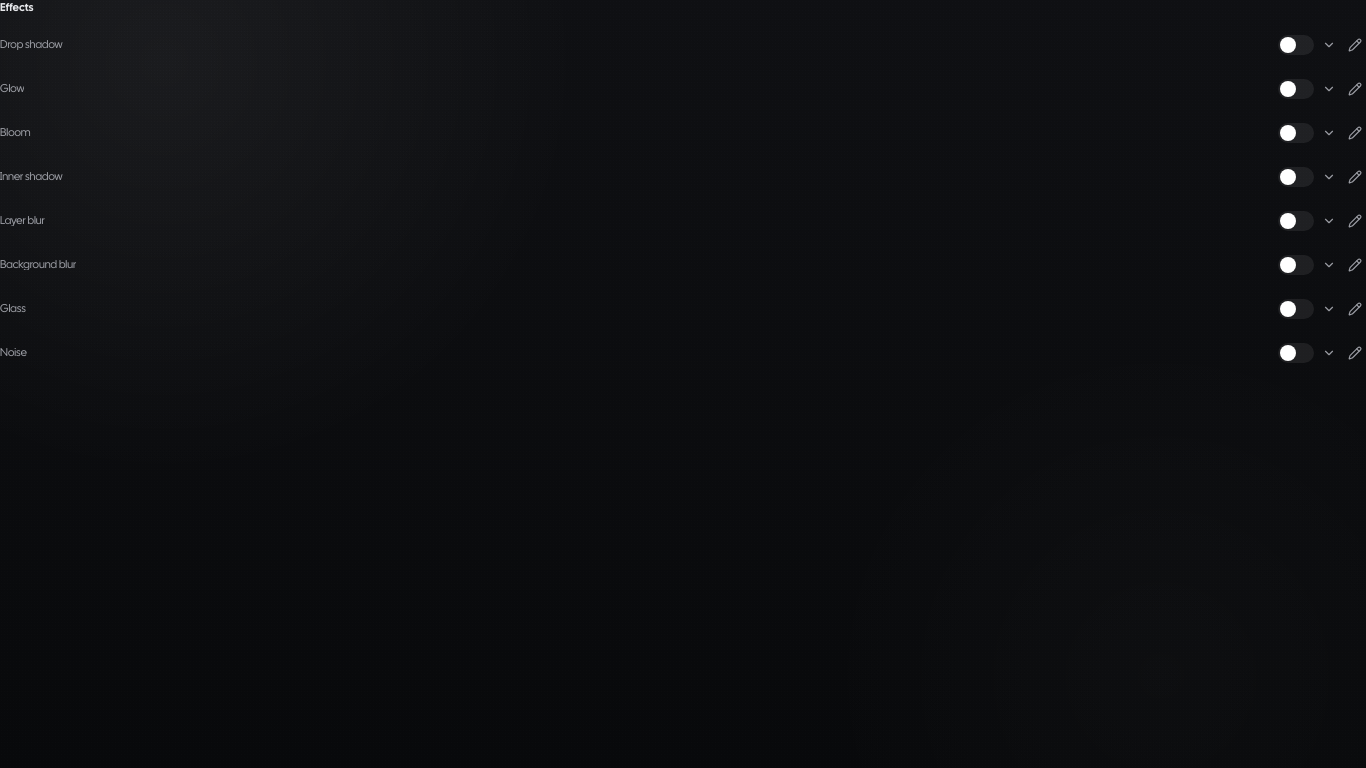
Effects — spread (2.0) e paridade modal ↔ sidebar › slider de spread do modal escreve na sidebar e chega ao SVG
Expected: the switch labelled "Drop shadow" is not checked, [1278,34,1314,54]
Click the button named "Edit Drop shadow".
click(1355, 44)  # box [1344,34,1365,56]
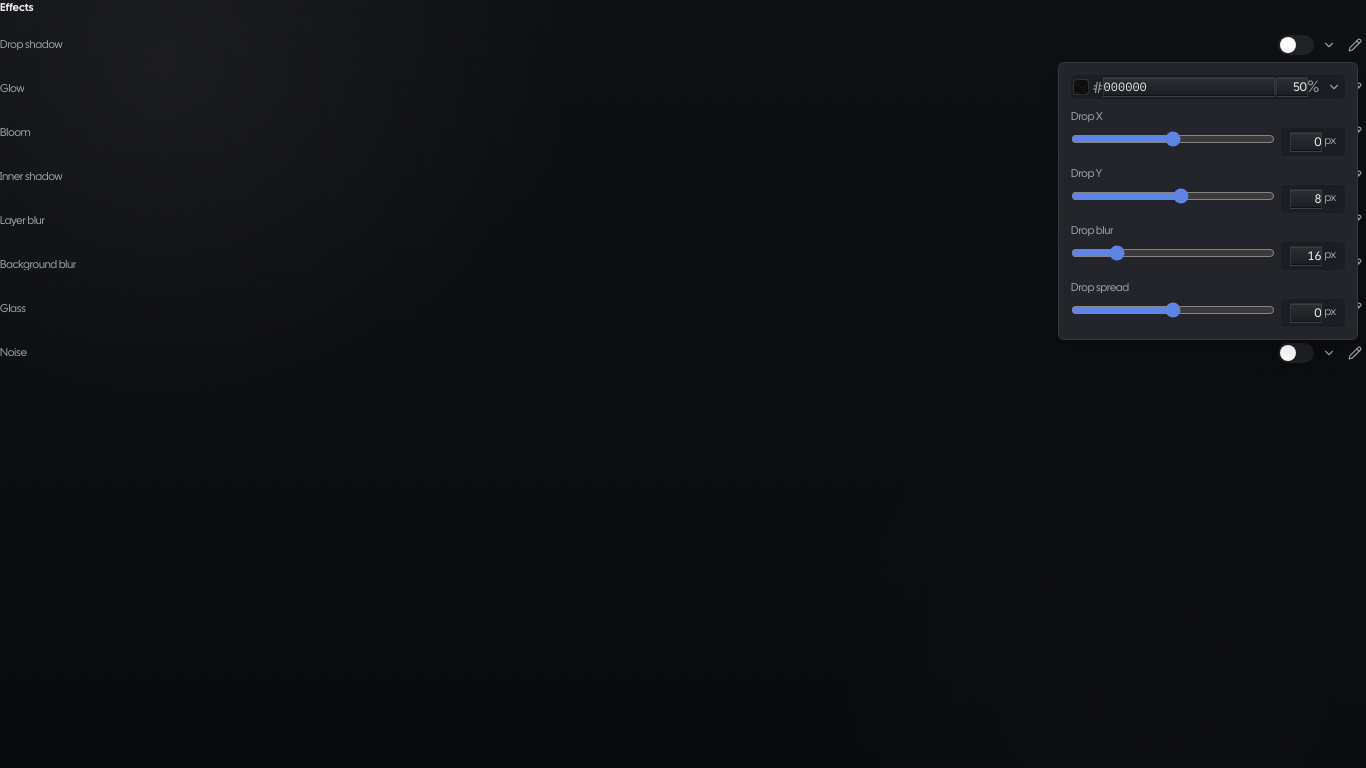
Set the slider named "Drop spread" to "12" at coordinates (1229, 310), box [1071,302,1275,318]
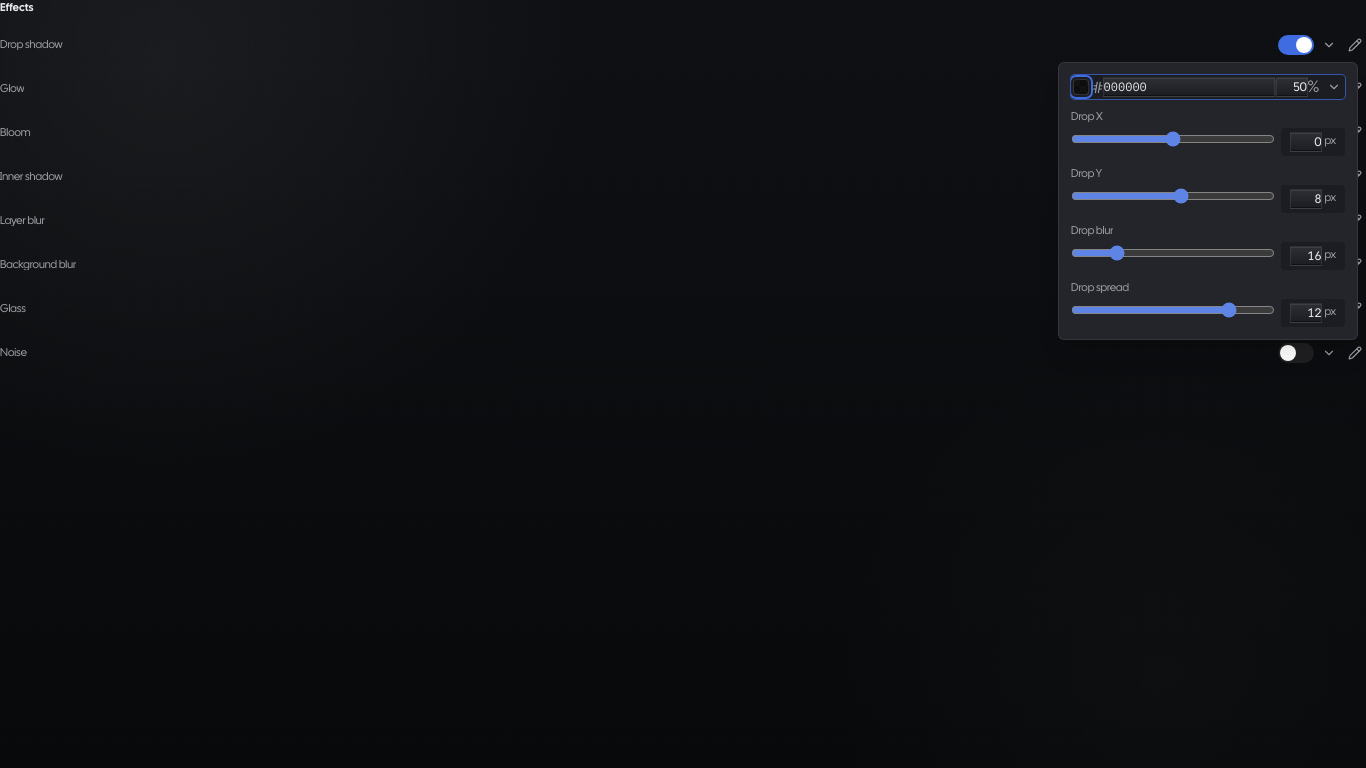
Expected: the switch labelled "Drop shadow" is checked, [1278,34,1314,54]
